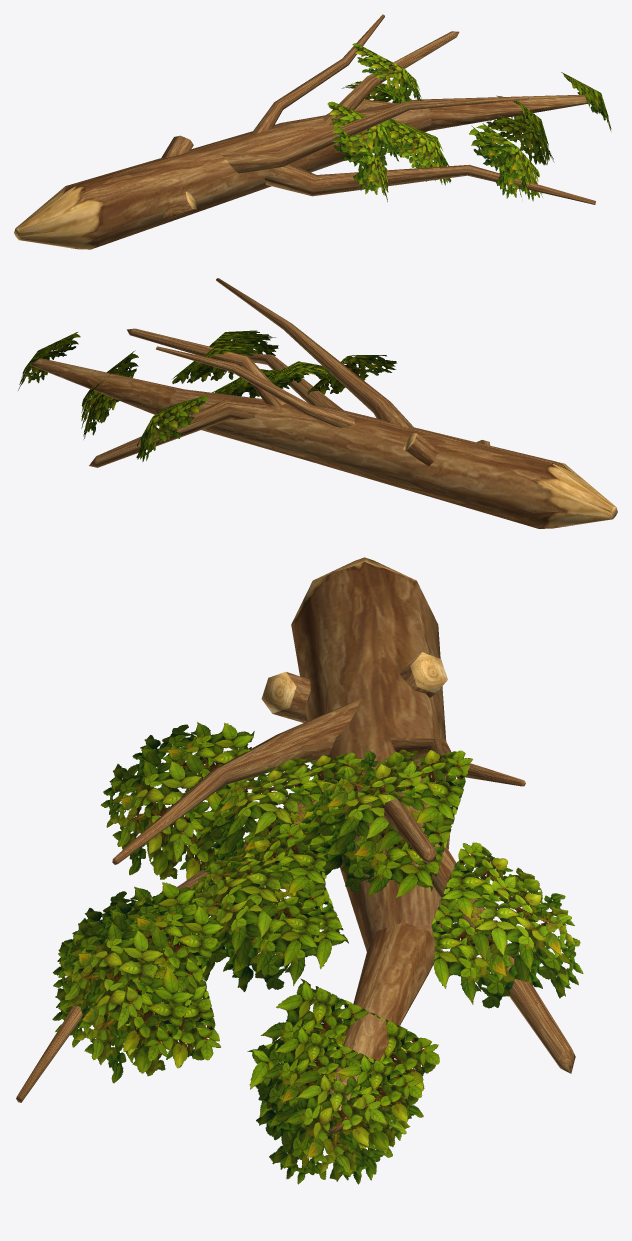
File: obj_madaprtree05.glb
3 renders of one model, top to bottom at view 1: azimuth 30°, elevation 25°; view 2: azimuth 150°, elevation 25°; view 3: azimuth 270°, elevation 25°, orthographic. The views are drawn at different scales.
Visible parts, largest first — view 1: part_0; view 2: part_0; view 3: part_0.
Part boxes in pixels (x1,y1,x2,y2): part_0: [14, 14, 611, 249]; part_0: [18, 278, 617, 528]; part_0: [16, 557, 583, 1184].
Size of the model in its own units: 12.08 by 3.18 by 5.34.
Materials: 2 (2 with a texture image).
